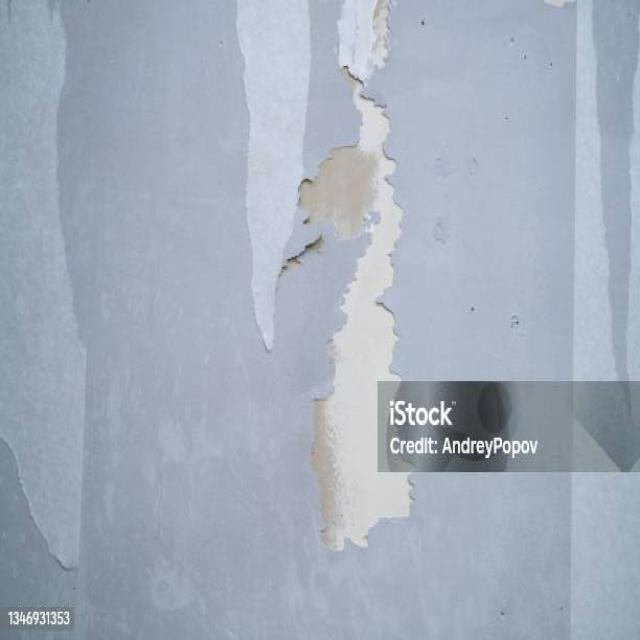peeling: (283, 10, 438, 577)
